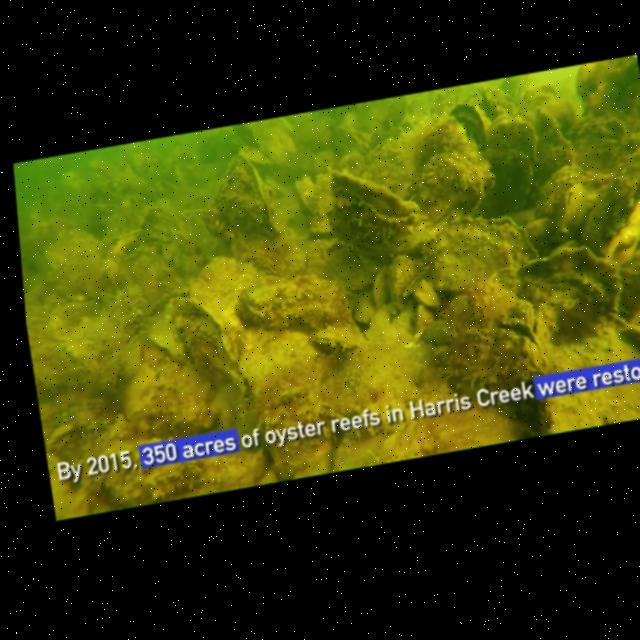Oyster-Closed: (206, 148, 284, 250), (545, 179, 591, 237)
Oyster-Indeterminate: (83, 413, 272, 514), (434, 307, 561, 442), (409, 199, 542, 297), (508, 236, 629, 331), (161, 289, 245, 396), (396, 138, 491, 223), (241, 324, 329, 410), (180, 248, 258, 313), (232, 271, 310, 335), (570, 53, 640, 121), (392, 119, 478, 169), (111, 361, 172, 426), (484, 110, 543, 176), (41, 228, 109, 284), (122, 238, 182, 300), (530, 159, 596, 214), (380, 251, 427, 313), (596, 200, 640, 266), (489, 147, 535, 210), (139, 197, 190, 247), (607, 135, 640, 204), (515, 207, 565, 252), (445, 96, 489, 145), (165, 223, 209, 267), (116, 337, 150, 379), (369, 263, 397, 306), (616, 314, 640, 363), (349, 290, 380, 327), (104, 224, 149, 249), (96, 354, 121, 394), (410, 278, 442, 303)
Oyster-Open: (320, 156, 426, 262), (311, 316, 364, 356), (303, 401, 354, 440), (241, 246, 283, 285), (43, 418, 81, 452)
